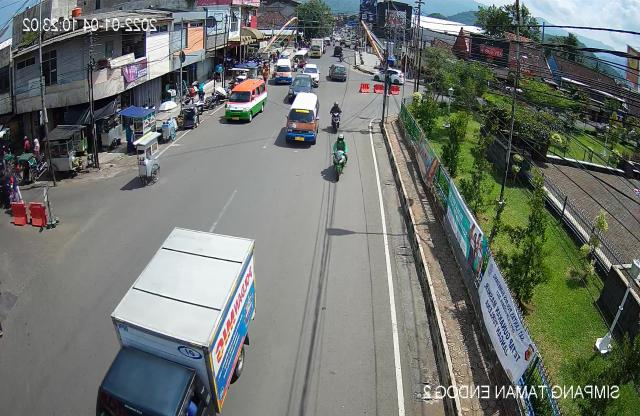Mobil: (220, 75, 270, 130), (280, 90, 325, 151)
Motor: (326, 128, 353, 183), (325, 98, 343, 136)
Truk: (89, 226, 259, 416)
